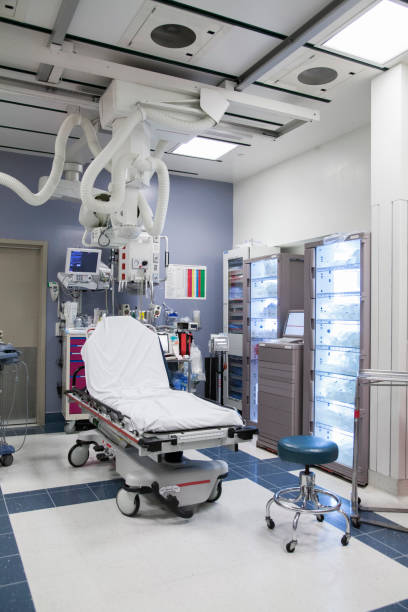bedside_monitor: (67, 245, 104, 279)
cabinet: (308, 242, 365, 447), (247, 247, 298, 332), (217, 249, 243, 413)
chair: (265, 436, 356, 558)
computer: (282, 309, 307, 340)
hospital_bed: (84, 304, 264, 517)
medical_drawer: (63, 321, 114, 429), (257, 340, 303, 453)
utility_cart: (355, 364, 408, 520)
